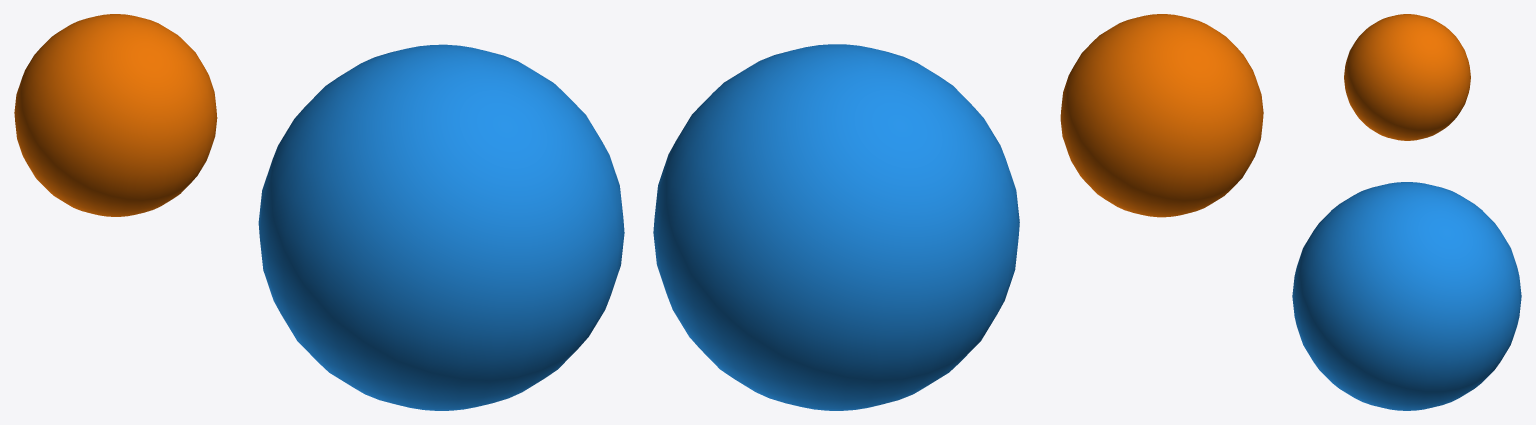
File: blueOrange.Spheres.fbx
3 renders of one model, left to right at view 1: azimuth 30°, elevation 25°; view 2: azimuth 150°, elevation 25°; view 3: azimuth 270°, elevation 25°, orthographic. The views are drawn at different scales.
Parts seen in each view (by area): view 1: Sphere, Sphere.001; view 2: Sphere, Sphere.001; view 3: Sphere, Sphere.001.
Boxes of the visible parts, left/top/right/bottom form: Sphere: left=258, top=44, right=624, bottom=410; Sphere.001: left=14, top=14, right=217, bottom=216; Sphere: left=653, top=44, right=1019, bottom=410; Sphere.001: left=1060, top=14, right=1263, bottom=217; Sphere: left=1292, top=182, right=1521, bottom=410; Sphere.001: left=1344, top=14, right=1470, bottom=140.
Bounding box in the file's own units: 360 × 271 × 200.
